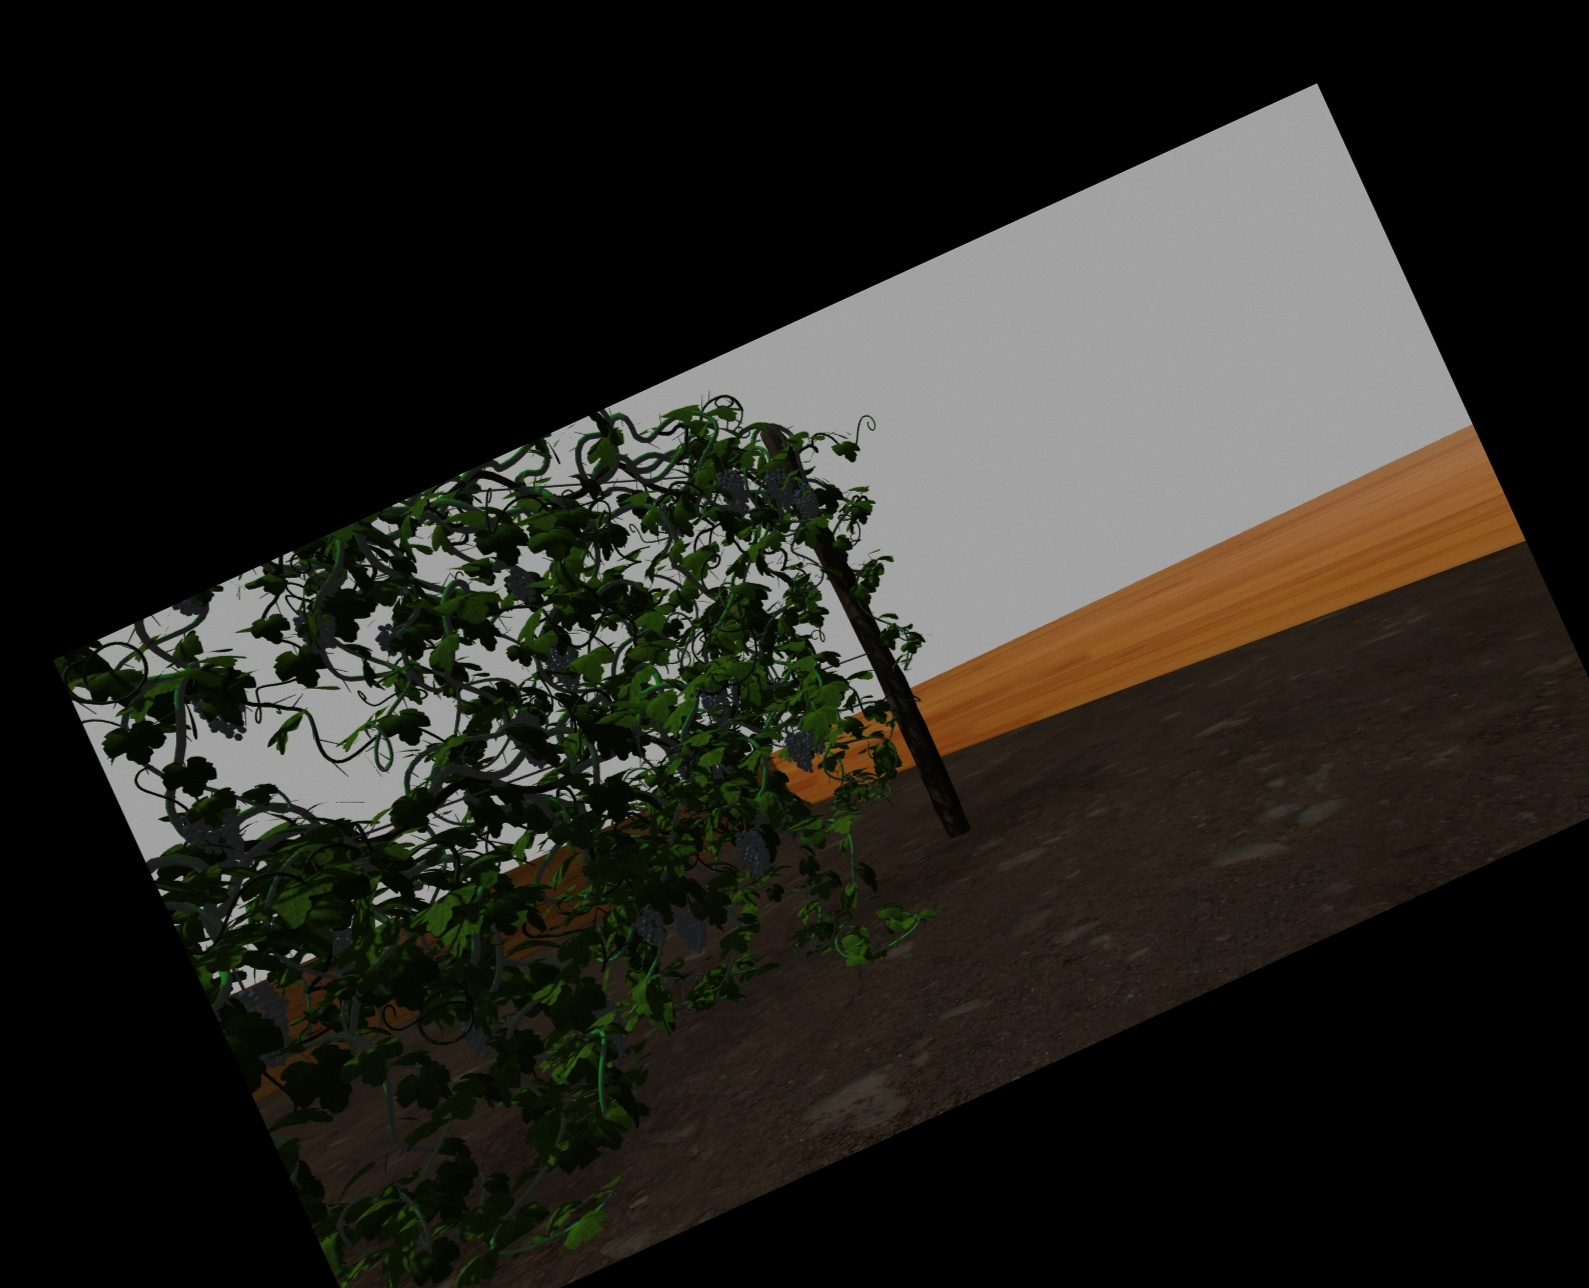grape: (248, 984, 294, 1063), (191, 806, 244, 862), (298, 609, 336, 651), (549, 641, 582, 690), (465, 1015, 501, 1057), (739, 828, 768, 879), (601, 1005, 627, 1055), (637, 907, 666, 950), (720, 467, 747, 514), (679, 909, 707, 954), (789, 729, 816, 773), (704, 685, 731, 725), (509, 564, 535, 601), (770, 468, 793, 509), (377, 622, 405, 655), (798, 489, 819, 520)
